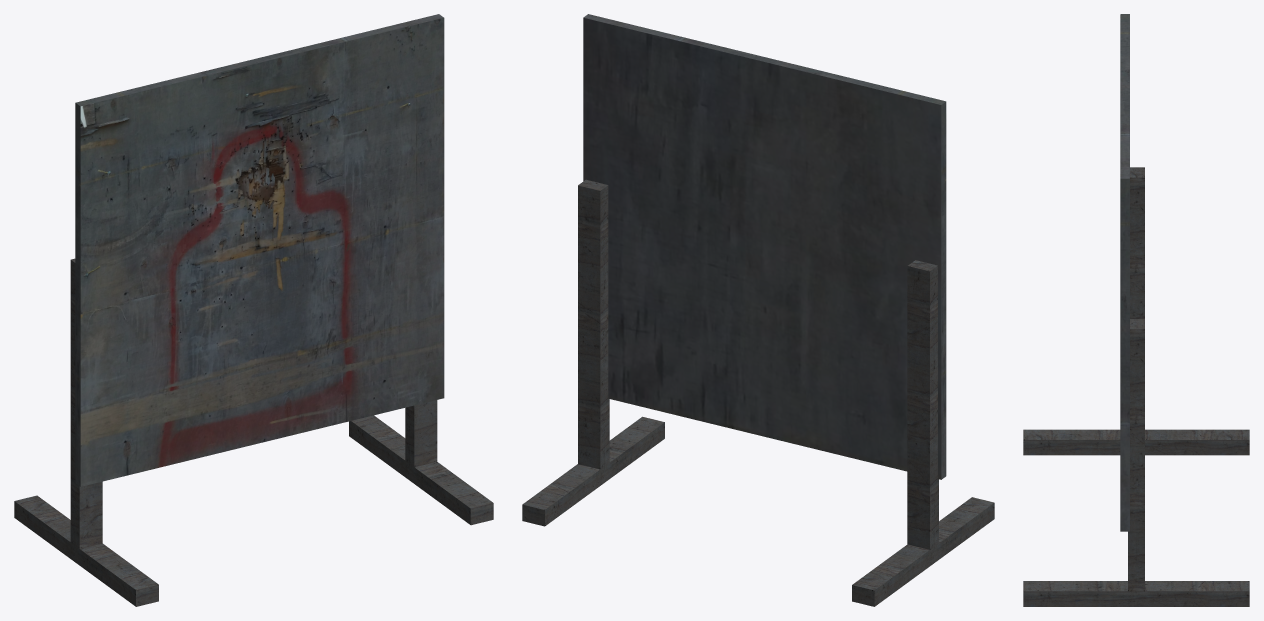
Rendered from target_1.fbx.
The picture shows the model from 3 angles, left to right: view 1: azimuth 30°, elevation 25°; view 2: azimuth 150°, elevation 25°; view 3: azimuth 270°, elevation 25°; orthographic projection. The views are drawn at different scales.
Visible parts, largest first — view 1: Target_1; view 2: Target_1; view 3: Target_1.
Boxes of the visible parts, x1,y1,x2,y2 form: Target_1: [14, 14, 493, 606]; Target_1: [522, 14, 994, 606]; Target_1: [1023, 14, 1249, 606].
Size of the model in its own units: 205 by 249 by 119.
